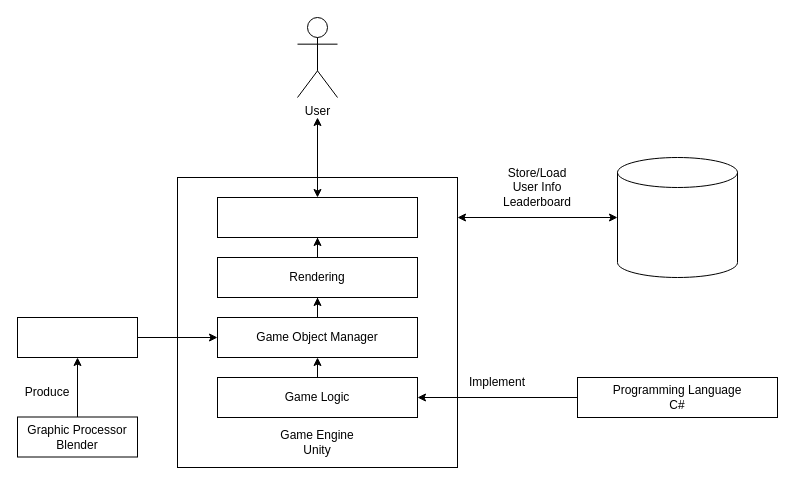
Image size: 795x485. Some labels were removed from this diagram. The shapes that lost their labels are listed below. From the top down, each one's centre as x and y in pixels, then its label:
At pixel 317 217: "Graphic User Interface".
At pixel 677 217: "Database Firebase".
At pixel 77 337: "Game Object Image".
